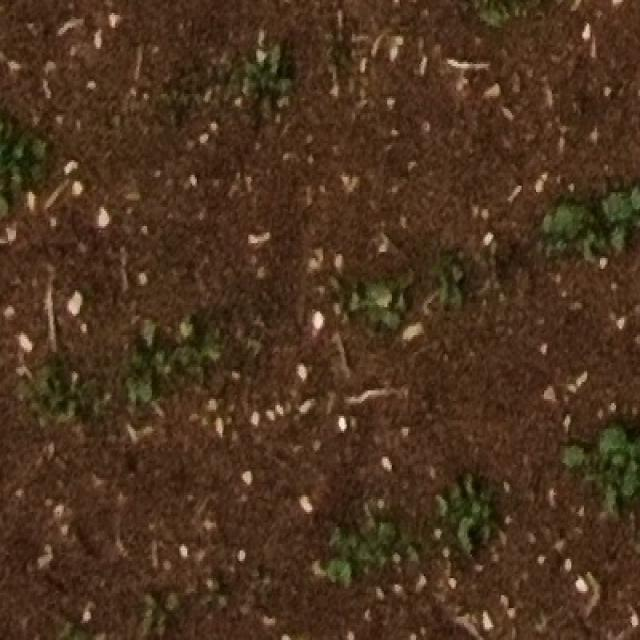cirse: (248, 43, 302, 120), (235, 47, 288, 120), (250, 47, 302, 121)
